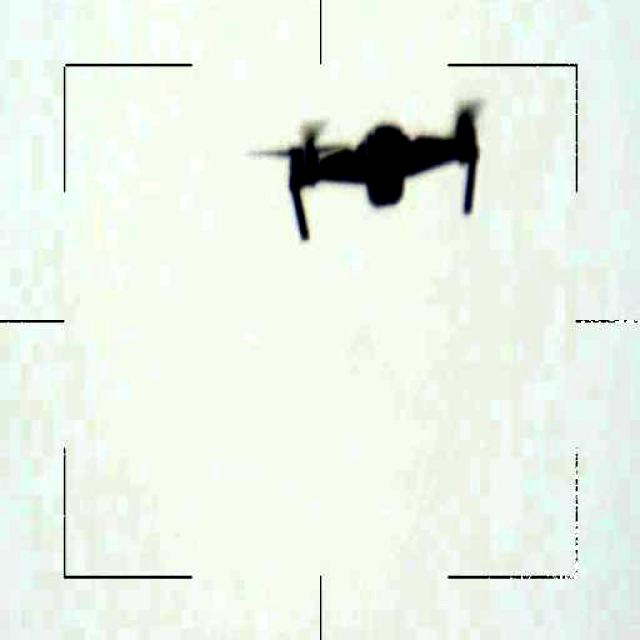bird: (245, 90, 495, 250)
